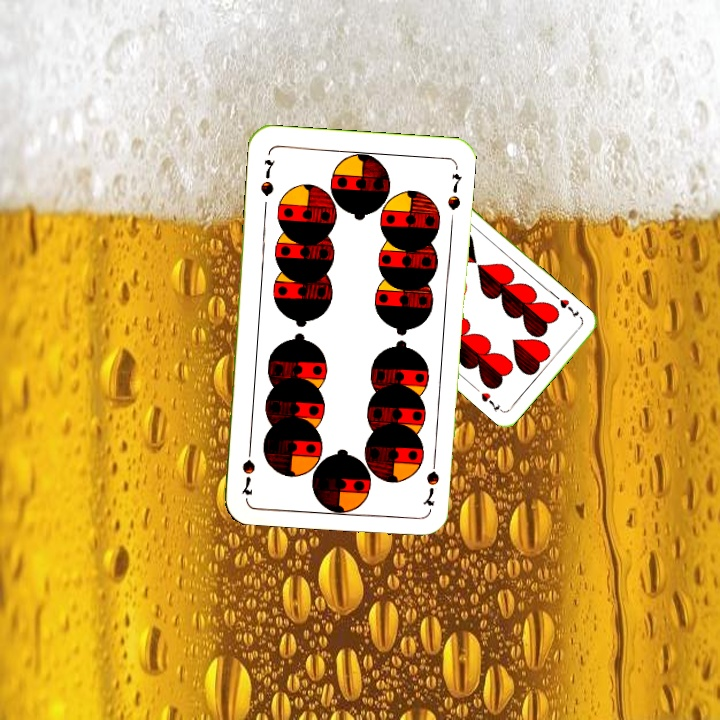H7: (555, 295, 582, 321)
S7: (419, 451, 442, 509), (256, 155, 278, 199)
